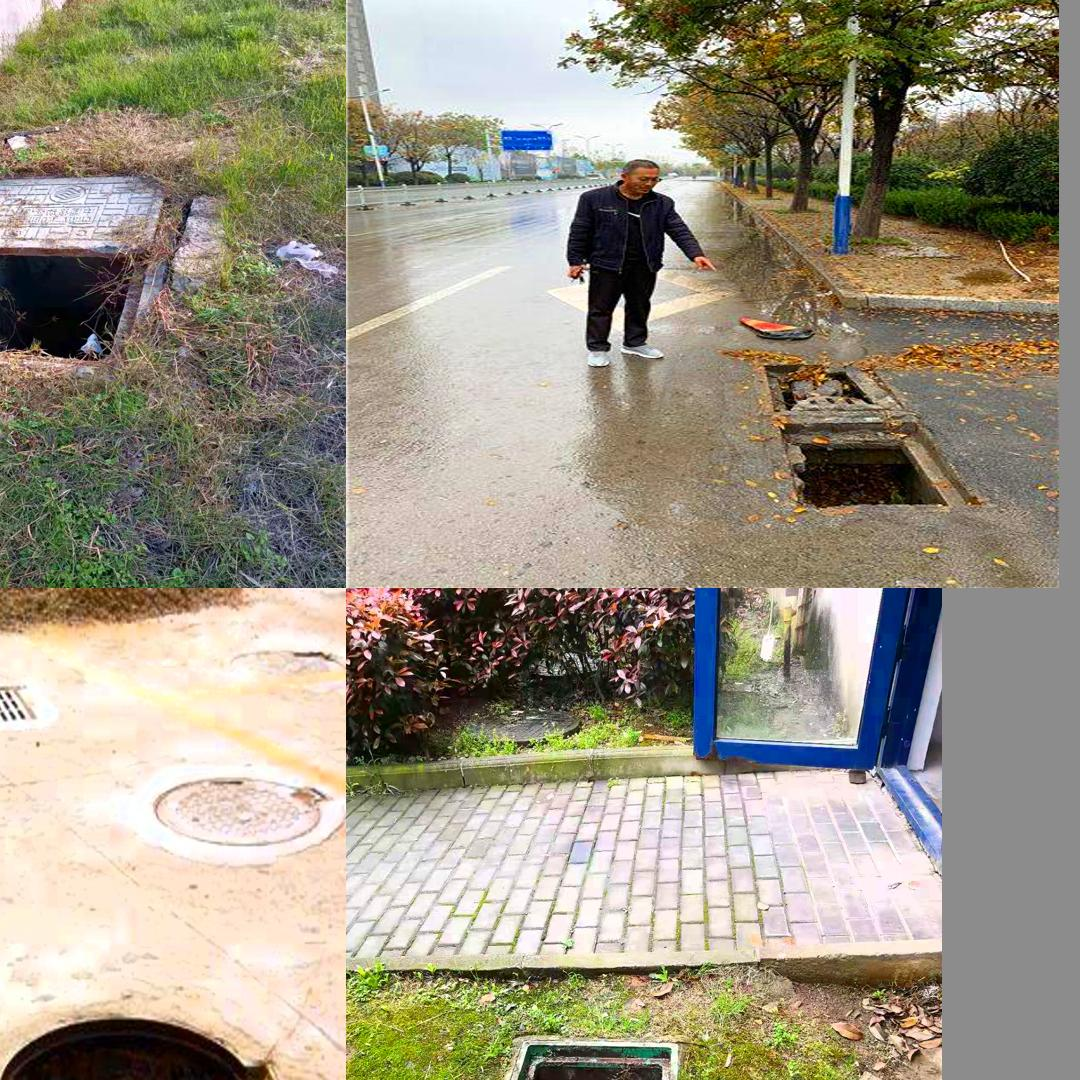lose: (0, 150, 222, 398), (752, 351, 977, 515), (0, 977, 278, 1080), (459, 1036, 682, 1080)
